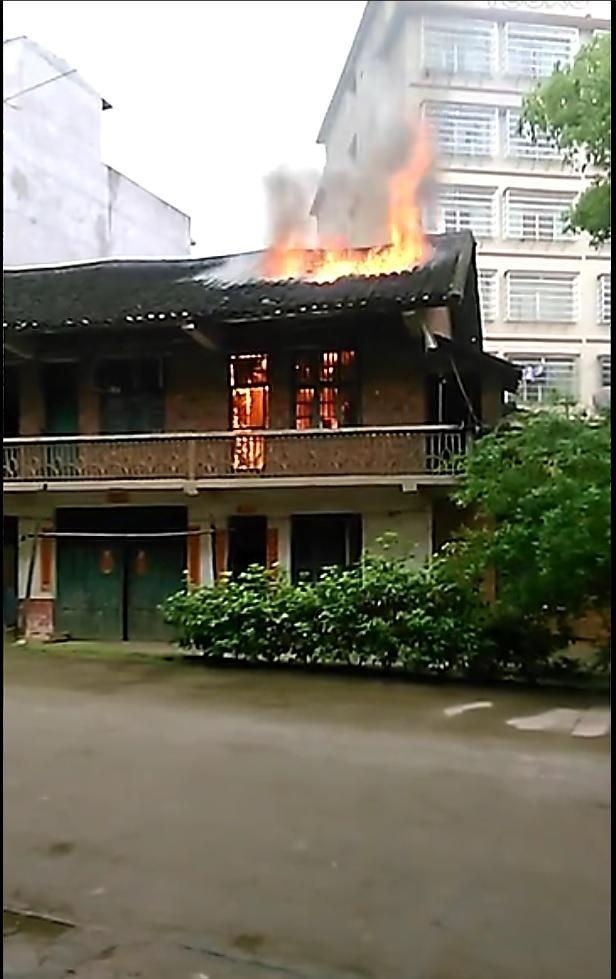fire: (259, 138, 431, 282), (227, 352, 268, 472), (292, 350, 347, 429)
